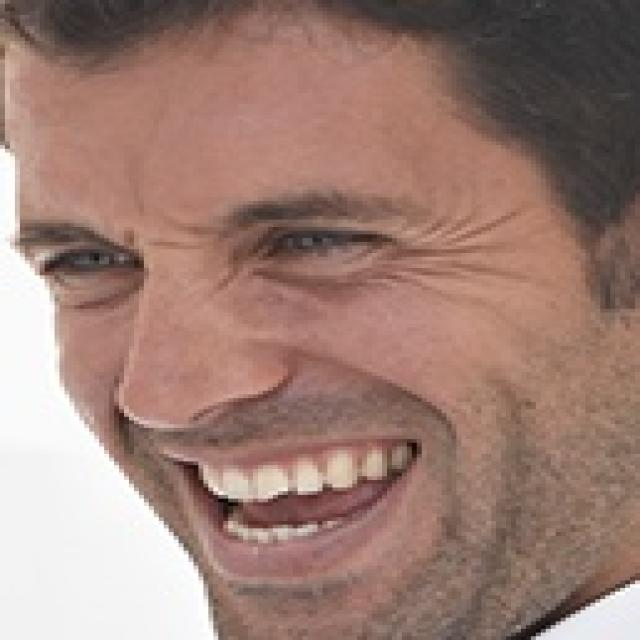0_rostro_limpio: (0, 4, 635, 610)
